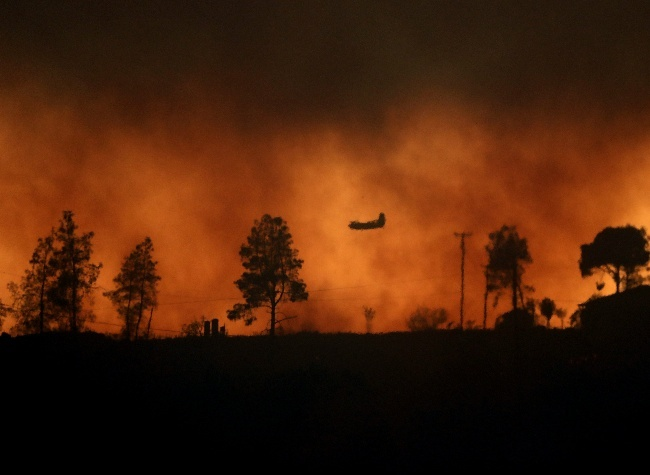Smoke: (97, 140, 225, 285), (304, 163, 415, 315)
